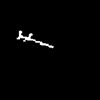double_crochet: (17, 31, 52, 47)
